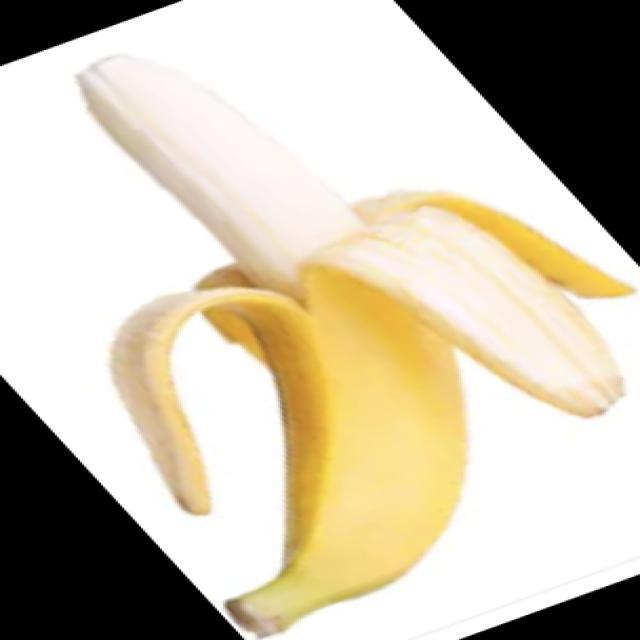Banana: (73, 51, 636, 638)
